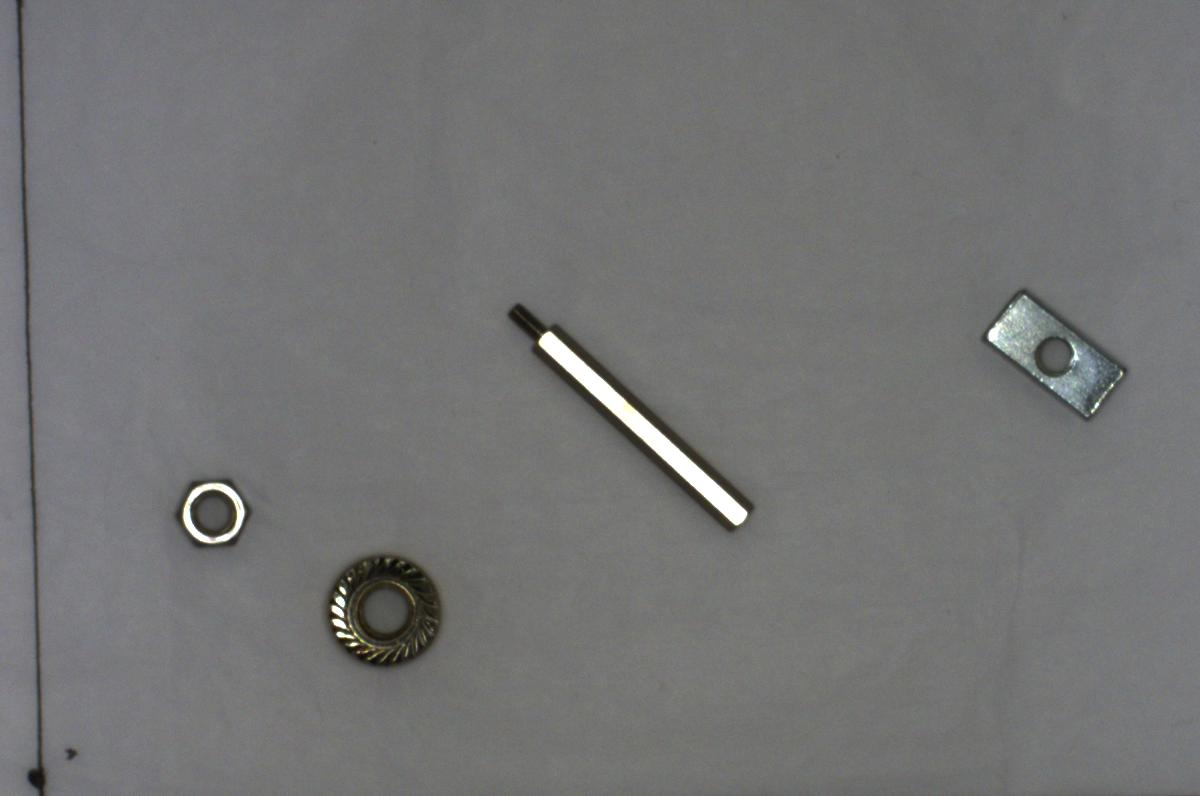Flange nut: (313, 545, 454, 675)
Hexagon nut: (167, 467, 259, 554)
Hexagonal steel column: (491, 288, 761, 547)
Rectangular nut: (973, 279, 1139, 428)
